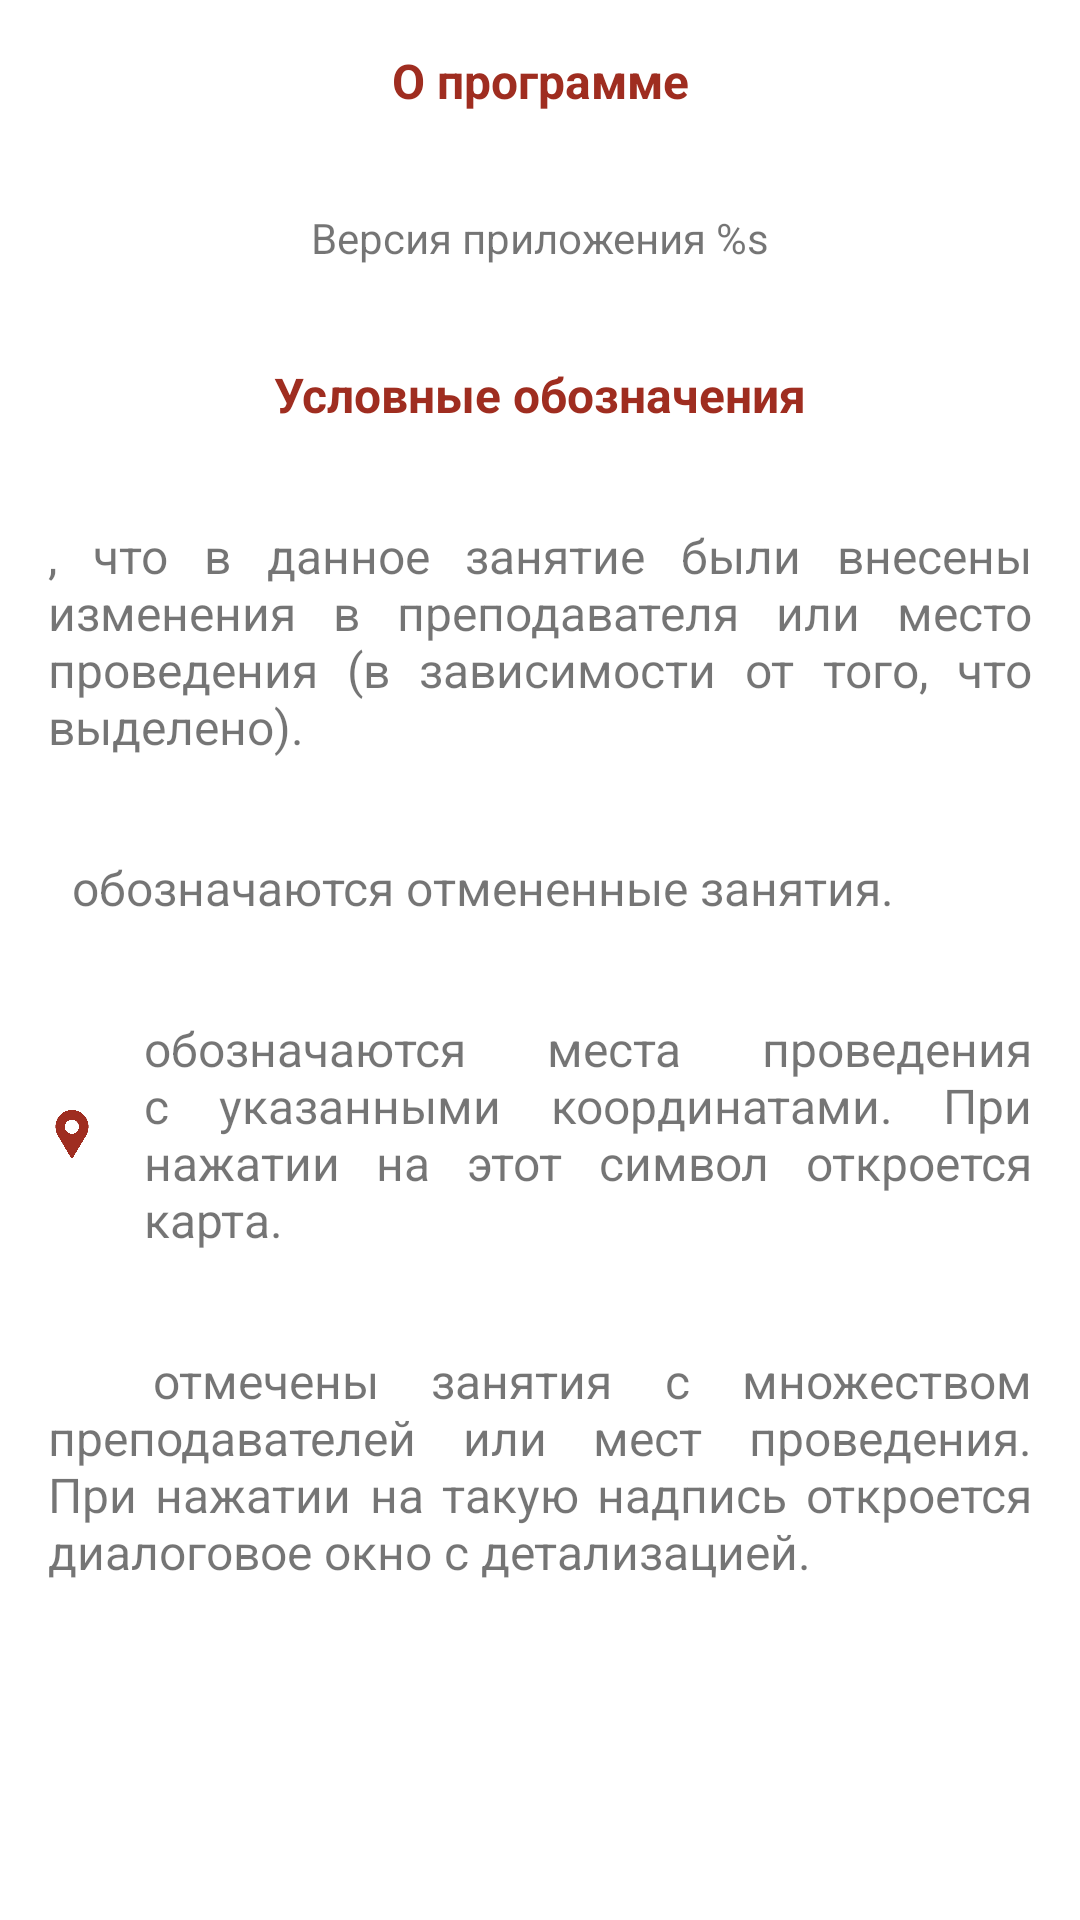

Icon bounding boxes for this 1080w x 1920h phone screenshot, format (x1, y1, x2, y2):
location hasgeo: (55, 1110, 89, 1158)
